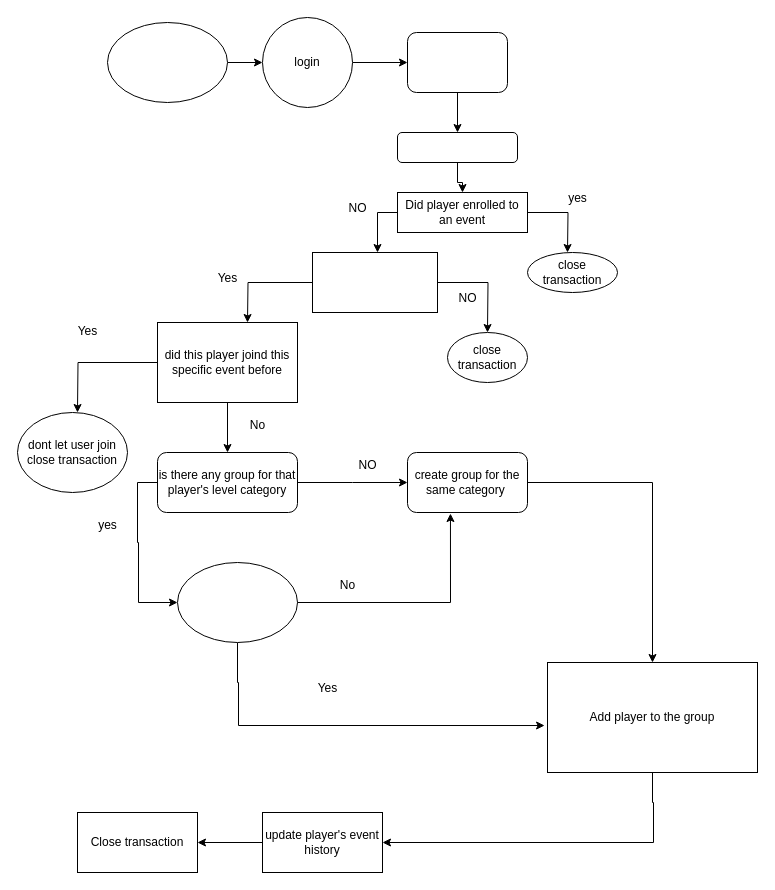
This 775x890 diagram has some shape labels left out. Each missing label, with the centre of its shape:
db transaction start: point 457,147
group has less than 10 player?: point 237,602
is requested event exist: point 375,282
join request: point 457,62
register: point 167,62
